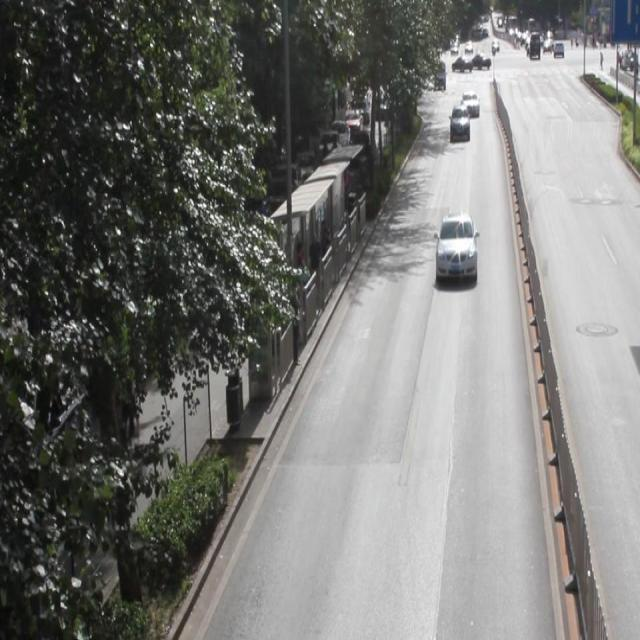car: (433, 211, 474, 284), (448, 105, 468, 143)
